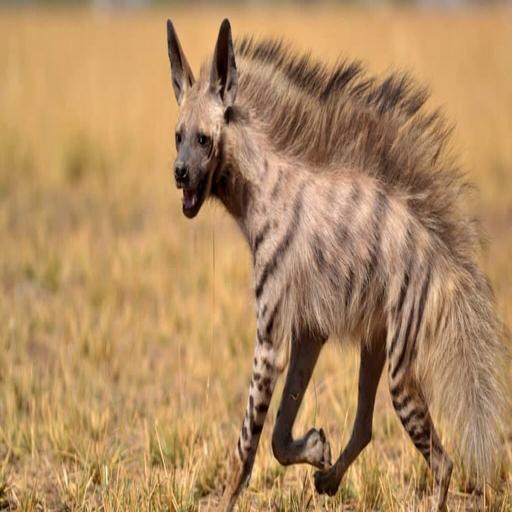Hyena: (155, 12, 512, 510)
